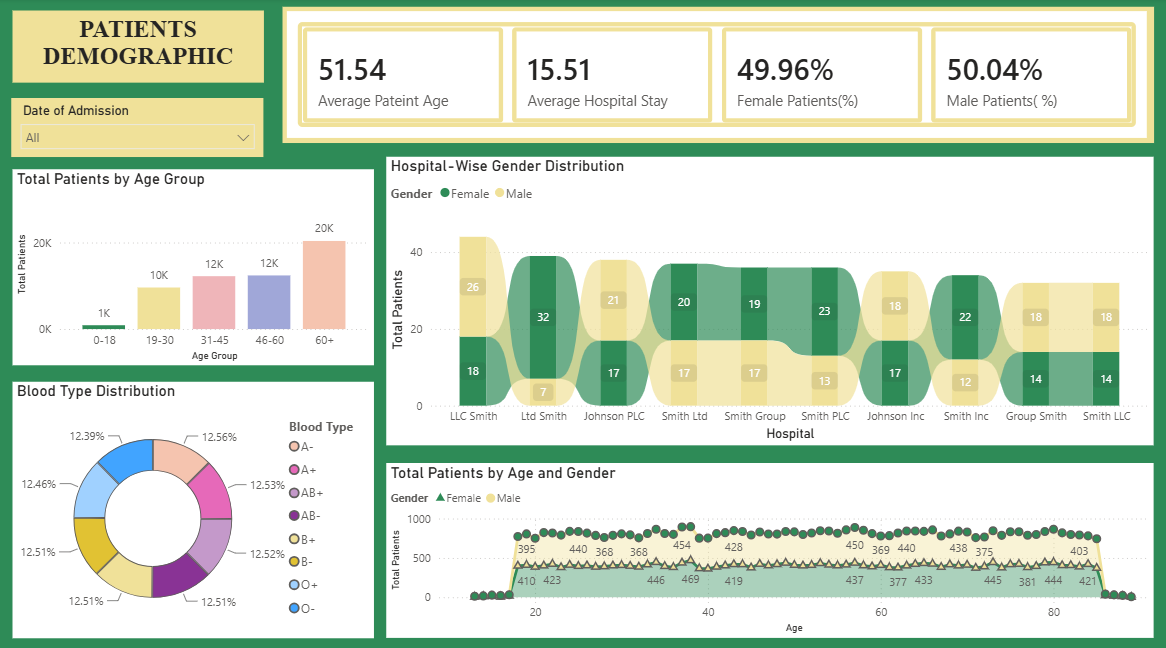

The dashboard page shown, as its layout file describes it:
{"tool":"powerbi","page":{"name":"Page 3","canvas":[1280,720],"ordinal":2},"visuals":[{"type":"textbox","box":[13.7,13.7,275.8,79.6],"z":0},{"type":"cardVisual","fields":{"Data":["All Measures.Average Age","All Measures.Average Stay","All Measures.Female %","All Measures.Male %"]},"box":[310.1,9.6,956.4,149.6],"z":1000},{"type":"slicer","fields":{"Values":["Healthcare data.Date of Admission"]},"box":[12.3,109.8,277.2,64.5],"z":2000},{"type":"clusteredColumnChart","fields":{"Category":["Healthcare data.Age Group"],"Y":["All Measures.Total Patients"]},"box":[13.7,188,396.6,215.4],"z":3000},{"type":"donutChart","title":"Blood Type Distribution","fields":{"Category":["Healthcare data.Blood Type"],"Y":["All Measures.Total Patients"]},"box":[13.7,421.3,396.6,281.3],"z":4000},{"type":"ribbonChart","title":"Hospital-Wise Gender Distribution","fields":{"Series":["Healthcare data.Gender"],"Category":["Healthcare data.Hospital"],"Y":["All Measures.Total Patients"]},"box":[424,174.3,842.5,317],"z":5000},{"type":"stackedAreaChart","fields":{"Category":["Healthcare data.Age"],"Y":["All Measures.Total Patients"],"Series":["Healthcare data.Gender"]},"box":[424,510.5,842.5,192.1],"z":6000}]}

Visuals, with their boxes in screenshot pixels (x1, y1, x2, y2), scaled from the page's 1280x720 canvas onto the 1166x648 screenshot:
textbox: [12, 12, 264, 84]
cardVisual - All Measures.Average Age x All Measures.Average Stay: [282, 9, 1154, 143]
slicer - Healthcare data.Date of Admission: [11, 99, 264, 157]
clusteredColumnChart - Healthcare data.Age Group x All Measures.Total Patients: [12, 169, 374, 363]
"Blood Type Distribution" donutChart: [12, 379, 374, 632]
"Hospital-Wise Gender Distribution" ribbonChart: [386, 157, 1154, 442]
stackedAreaChart - Healthcare data.Age x All Measures.Total Patients: [386, 459, 1154, 632]
